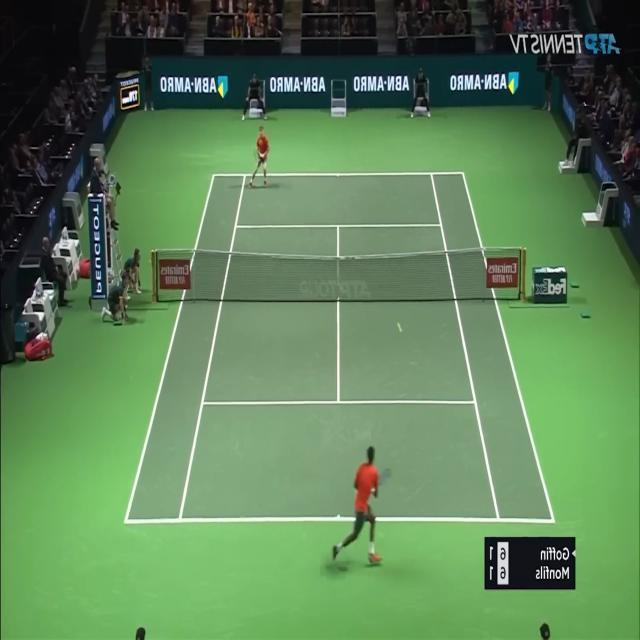court: (123, 171, 556, 524)
net: (150, 245, 528, 304)
player: (332, 444, 392, 564)
